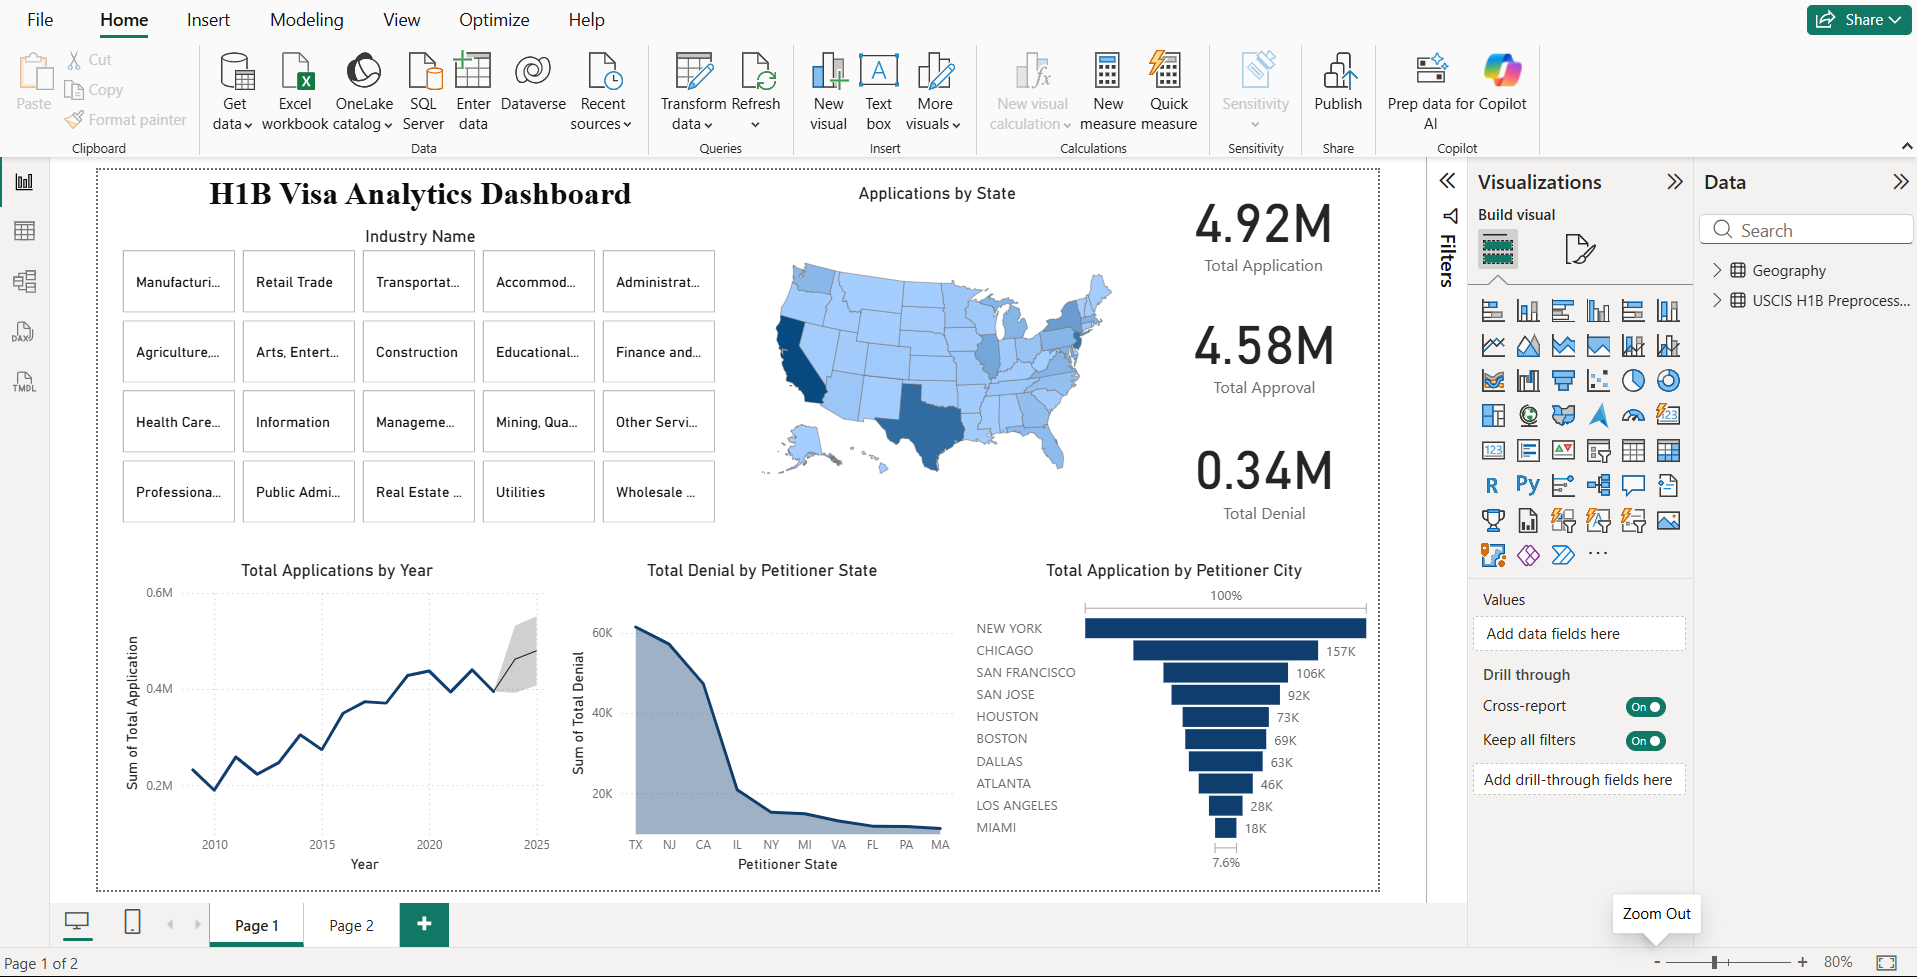

Layout of this report page (visuals, bound fields, positions):
{"tool":"powerbi","page":{"name":"Page 1","canvas":[1280,720],"ordinal":0},"visuals":[{"type":"card","fields":{"Values":["Sum(USCIS H1B Preprocessed Data.Total Application)"]},"box":[1052.3,0,226.6,113.3],"z":0},{"type":"shapeMap","title":"Applications by State","fields":{"Category":["Geography.Petitioner State"],"Value":["Sum(USCIS H1B Preprocessed Data.Total Application)"]},"box":[639.5,13,398.2,352.9],"z":2000},{"type":"advancedSlicerVisual","fields":{"Values":["USCIS H1B Preprocessed Data.Industry Name "]},"box":[20,56.7,605,303.3],"z":3000},{"type":"textbox","box":[20,0,605,56.7],"z":4000},{"type":"lineChart","title":"Total Applications by Year","fields":{"Y":["Sum(USCIS H1B Preprocessed Data.Total Application)"],"Category":["USCIS H1B Preprocessed Data.Fiscal Year.Variation.Date Hierarchy.Year"]},"box":[21,390.2,435.5,317.3],"z":5000},{"type":"areaChart","title":"Total Denial by Petitioner State","fields":{"Y":["Sum(USCIS H1B Preprocessed Data.Total Denial)"],"Category":["Geography.Petitioner State"]},"box":[467.9,390.2,393.4,317.3],"z":6000},{"type":"funnel","title":"Total Application by Petitioner City","fields":{"Category":["Geography.Petitioner City"],"Y":["Sum(USCIS H1B Preprocessed Data.Total Application)"]},"box":[874.2,390.2,404.7,317.3],"z":7000},{"type":"card","fields":{"Values":["Sum(USCIS H1B Preprocessed Data.Total Approval)"]},"box":[1052.3,113.3,228.3,129.5],"z":8000},{"type":"card","fields":{"Values":["Sum(USCIS H1B Preprocessed Data.Total Denial)"]},"box":[1052.3,242.8,228.3,123],"z":9000}]}

Visuals, with their boxes on the page's 1280x720 design canvas (x1, y1, x2, y2). These are canvas units, not pixel positions in the 1917x977 screenshot, which may show the page scaled, cropped or inside an application window:
card - Sum(USCIS H1B Preprocessed Data.Total Application): l=1052, t=0, r=1279, b=113
"Applications by State" shapeMap: l=640, t=13, r=1038, b=366
advancedSlicerVisual - USCIS H1B Preprocessed Data.Industry Name : l=20, t=57, r=625, b=360
textbox: l=20, t=0, r=625, b=57
"Total Applications by Year" lineChart: l=21, t=390, r=456, b=708
"Total Denial by Petitioner State" areaChart: l=468, t=390, r=861, b=708
"Total Application by Petitioner City" funnel: l=874, t=390, r=1279, b=708
card - Sum(USCIS H1B Preprocessed Data.Total Approval): l=1052, t=113, r=1281, b=243
card - Sum(USCIS H1B Preprocessed Data.Total Denial): l=1052, t=243, r=1281, b=366
